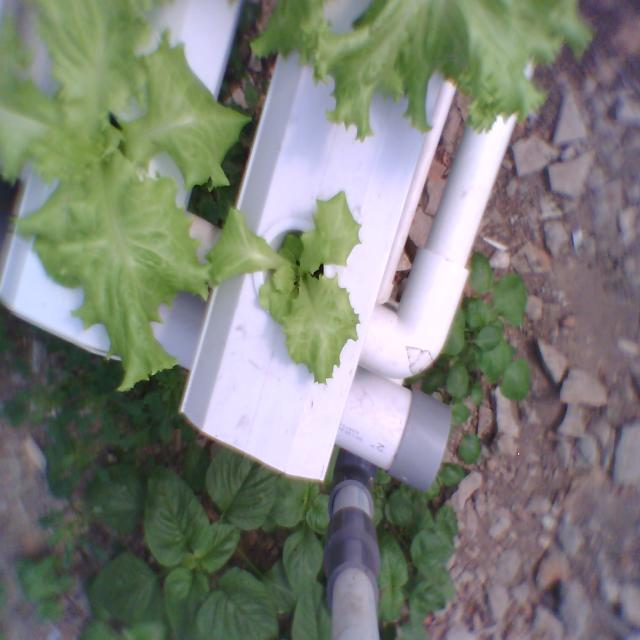FN: (0, 0, 256, 404), (205, 186, 375, 397)
